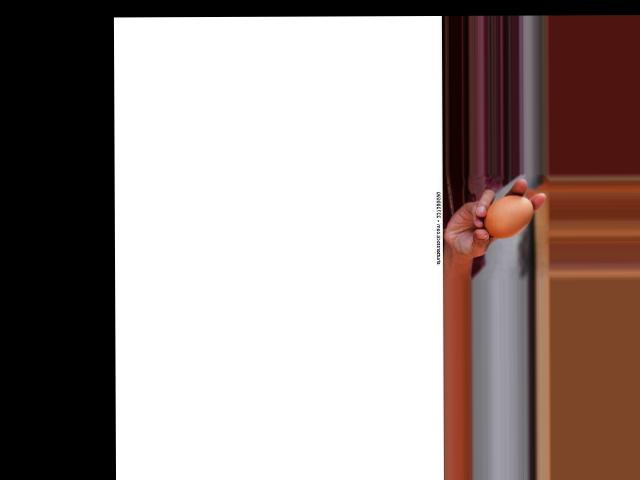egg: (484, 194, 533, 237)
